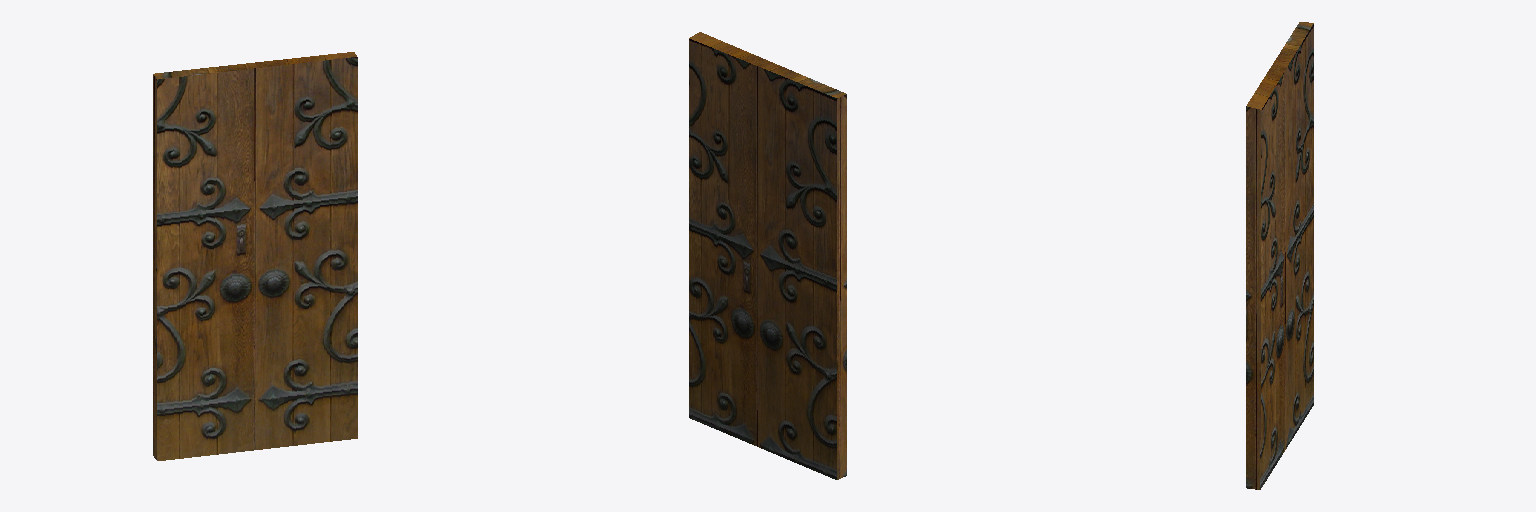
3 views of the same model, side by side, from view 1: azimuth 30°, elevation 25°; view 2: azimuth 150°, elevation 25°; view 3: azimuth 270°, elevation 25° (orthographic).
Parts seen in each view (by area): view 1: Object.1; view 2: Object.1; view 3: Object.1.
Part boxes in pixels (x1,y1,x2,y2): Object.1: (153,52,357,460); Object.1: (689,32,846,479); Object.1: (1246,22,1313,489).
Size of the model in its own units: 123 by 253 by 40.67.
Materials: 3 (1 with a texture image).